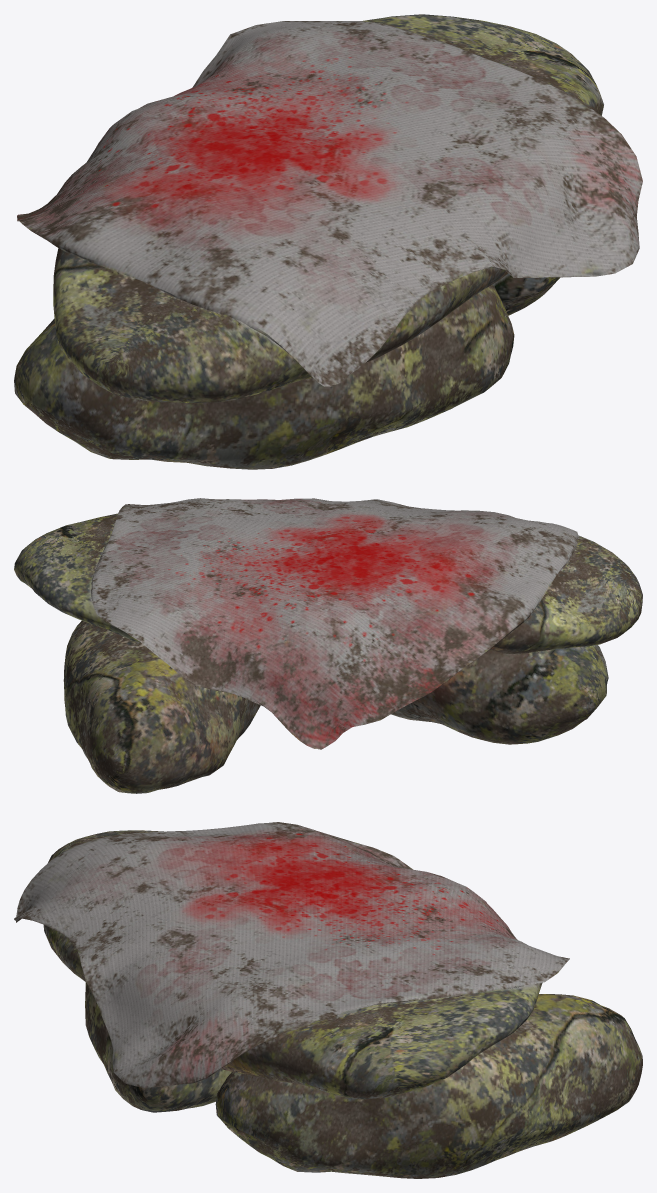
Rendered from stone_altar_with_cloth__blood.glb.
The picture shows the model from 3 angles, top to bottom: view 1: azimuth 30°, elevation 25°; view 2: azimuth 150°, elevation 25°; view 3: azimuth 270°, elevation 25°; orthographic projection. The views are drawn at different scales.
Visible parts, largest first — view 1: Object_2; view 2: Object_2; view 3: Object_2.
Boxes of the visible parts, bbox=[...] form: Object_2: bbox=[14, 14, 642, 469]; Object_2: bbox=[14, 498, 642, 793]; Object_2: bbox=[14, 822, 642, 1178].
Size of the model in its own units: 5.58 by 1.95 by 5.43.
1 material, 1 textured.
